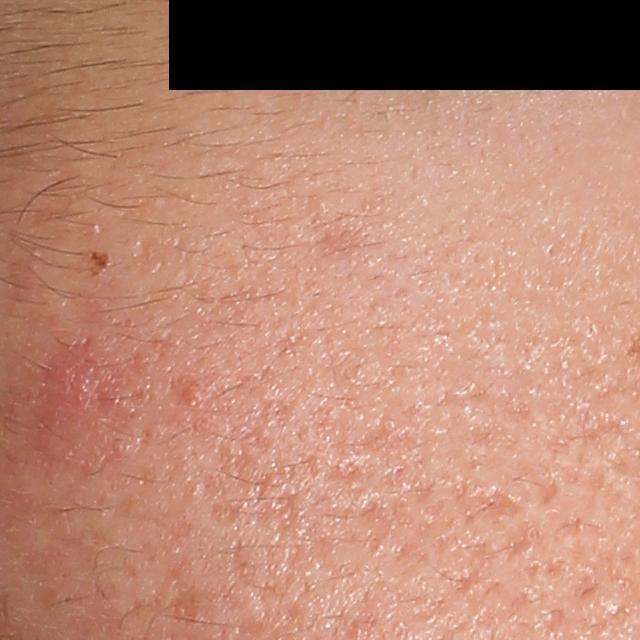atrophic_scar: (447, 479, 526, 541)
nevus: (84, 248, 111, 279)
